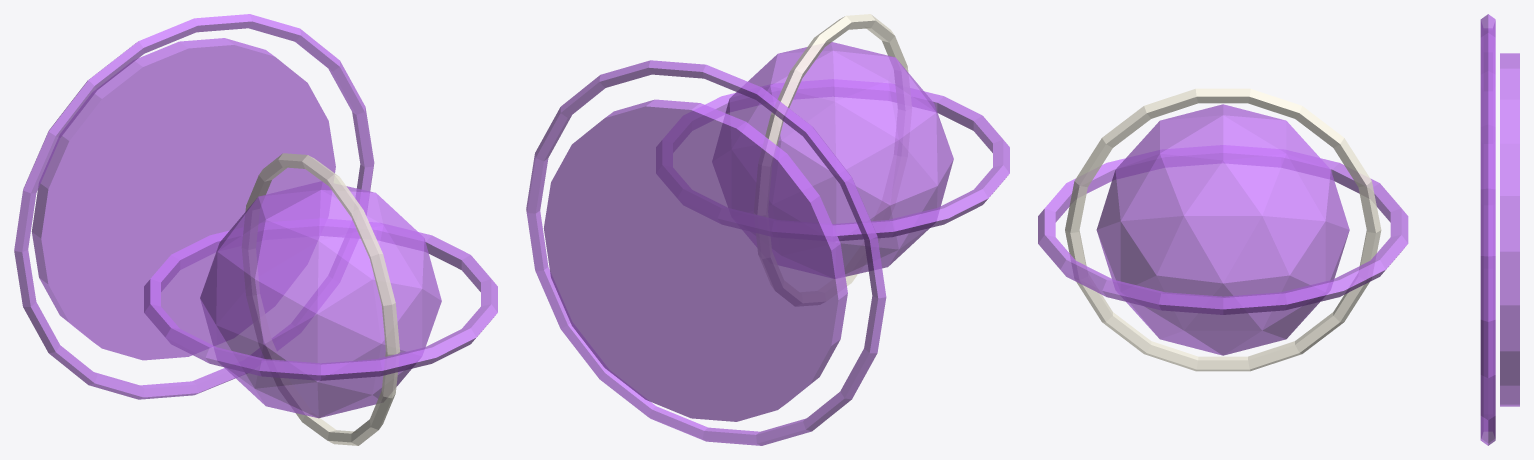
The model's file is 10_void_mote_familiar.glb.
3 renders of one model, left to right at view 1: azimuth 30°, elevation 25°; view 2: azimuth 150°, elevation 25°; view 3: azimuth 270°, elevation 25°, orthographic. The views are drawn at different scales.
Visible parts, largest first — view 1: base_disc, floating_core, base_ring, orbit_ring_x, orbit_ring_y; view 2: base_disc, floating_core, base_ring, orbit_ring_x, orbit_ring_y; view 3: floating_core, orbit_ring_x, orbit_ring_y, base_disc, base_ring.
Boxes of the visible parts, x1,y1,x2,y2 form: base_disc: (31, 38, 335, 360); floating_core: (200, 181, 441, 418); base_ring: (14, 14, 374, 399); orbit_ring_x: (144, 219, 497, 380); orbit_ring_y: (242, 153, 400, 445); base_disc: (543, 99, 847, 421); floating_core: (712, 42, 953, 278); base_ring: (526, 60, 886, 445); orbit_ring_x: (656, 79, 1009, 240); orbit_ring_y: (754, 14, 911, 305); floating_core: (1096, 104, 1349, 355); orbit_ring_x: (1038, 145, 1408, 314); orbit_ring_y: (1065, 88, 1381, 371); base_disc: (1500, 53, 1519, 406); base_ring: (1480, 14, 1495, 445).
Bounding box in the file's own units: 1.1 × 1.1 × 1.22.
